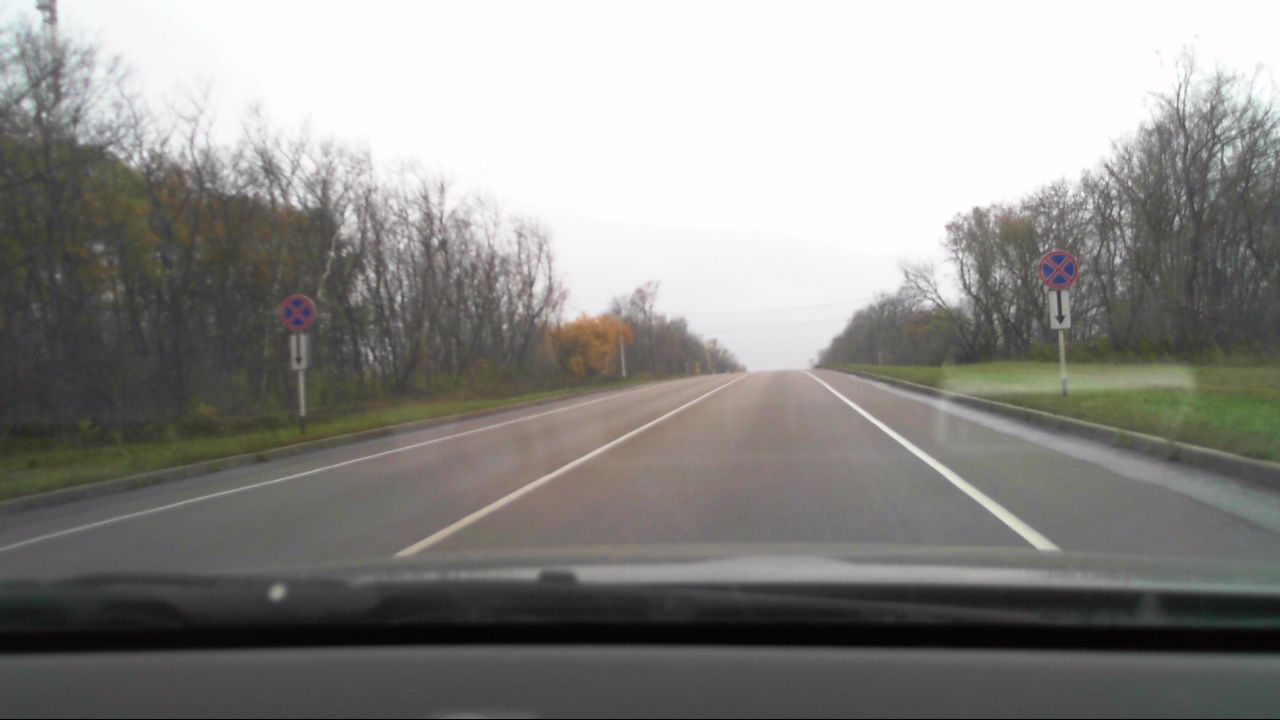No Parking: (1038, 250, 1077, 290)
